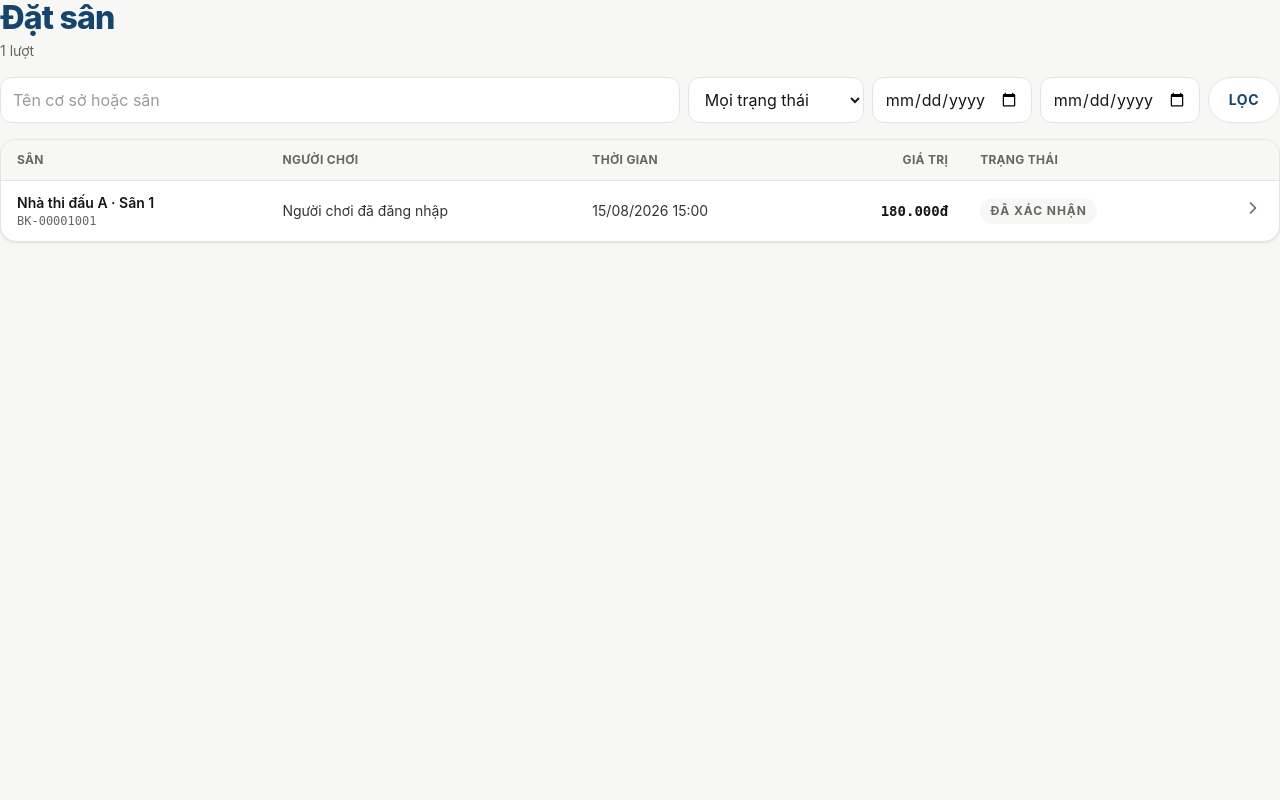
lets Admin open the same shutdown flow for the exact court or venue
Expected: the text "Nhà thi đấu A · Sân 1" is shown, [17, 194, 154, 211]
Click the button named "Xem chi tiết" at (1253, 208), box [1243, 198, 1263, 218]
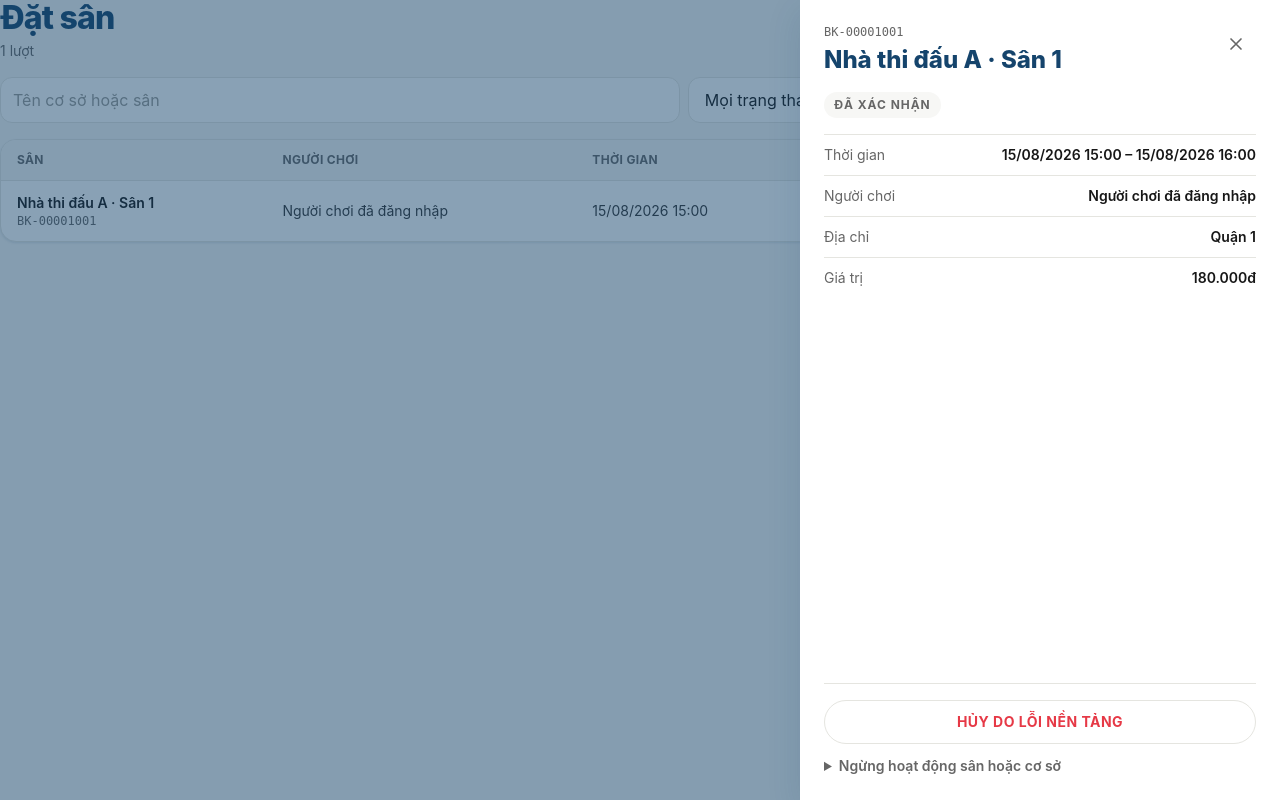
Click the heading "Ngừng hoạt động sân hoặc cơ sở" at (950, 766), box [839, 757, 1061, 774]
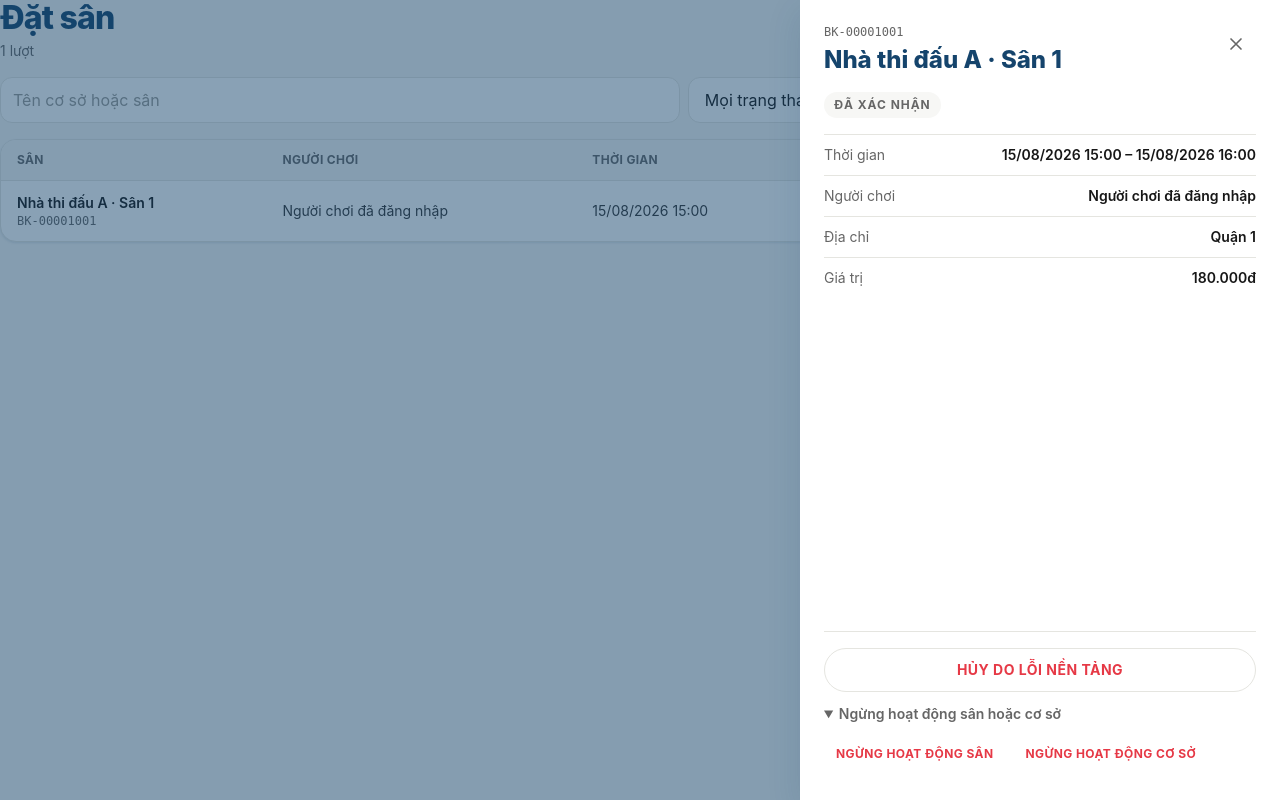
Click the button "Ngừng hoạt động sân" at (915, 754), box [824, 732, 1006, 776]
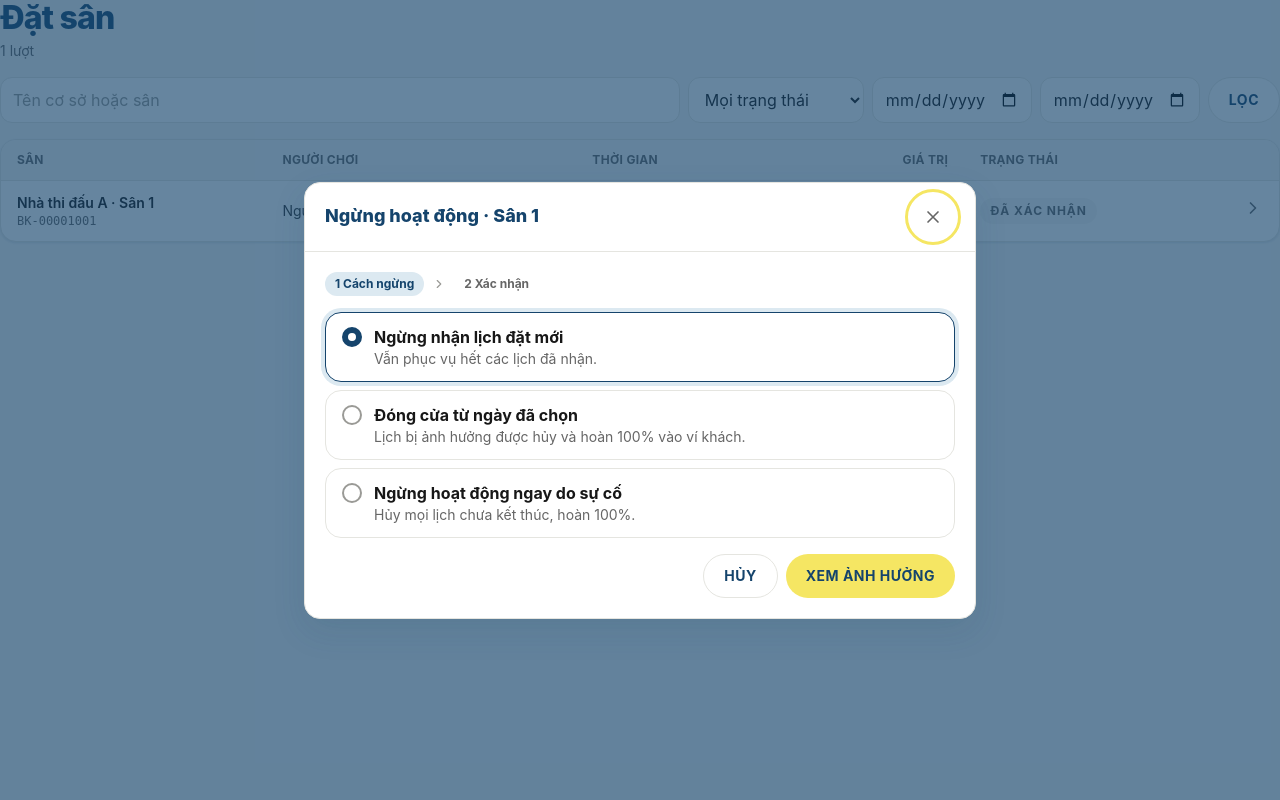
Now the dialog "Ngừng hoạt động · Sân 1" is shown, box [304, 182, 976, 618]
